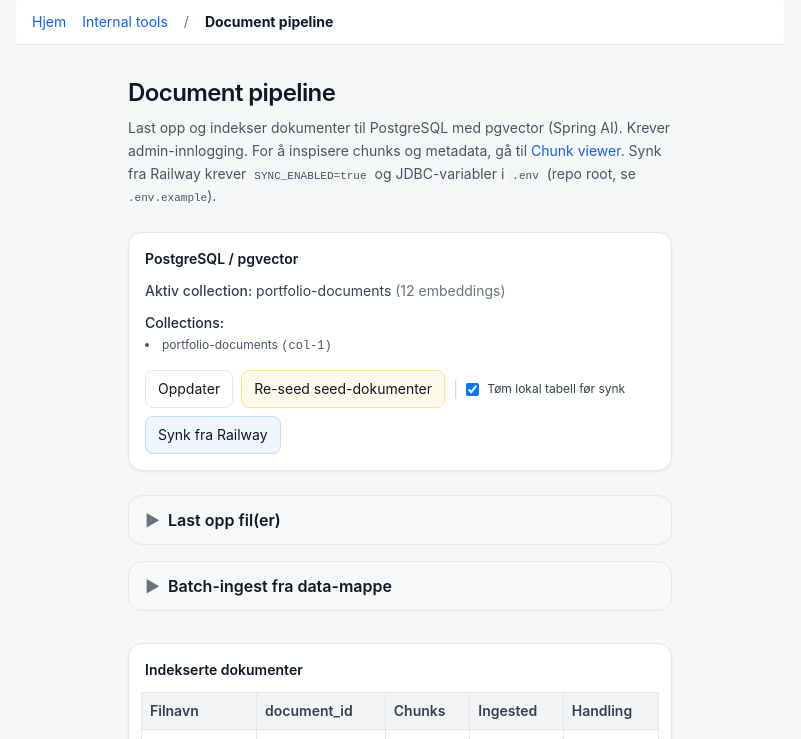
it: Admin CRUD views (integration-style) › AdminPipelineView surfaces 400 error object from sync
Click the button "Synk fra Railway": (213, 435) 145,416 -> 281,454
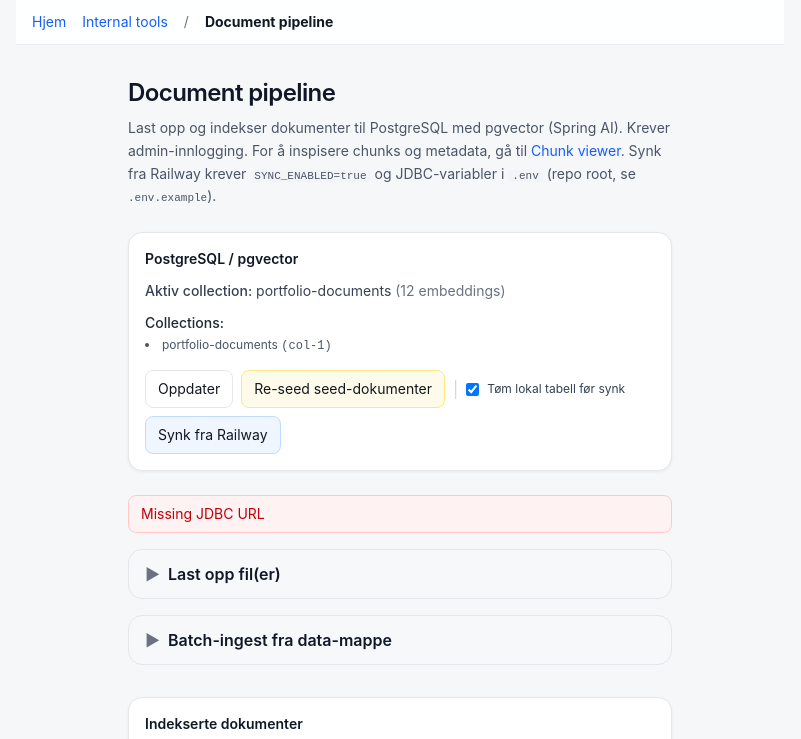
Result: the text "Missing JDBC URL" is shown at 128,495 -> 672,533
